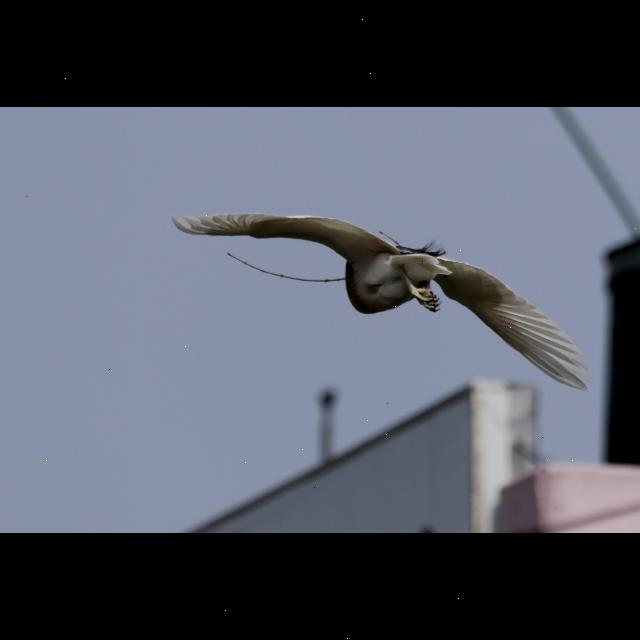heron: (167, 200, 606, 402)
